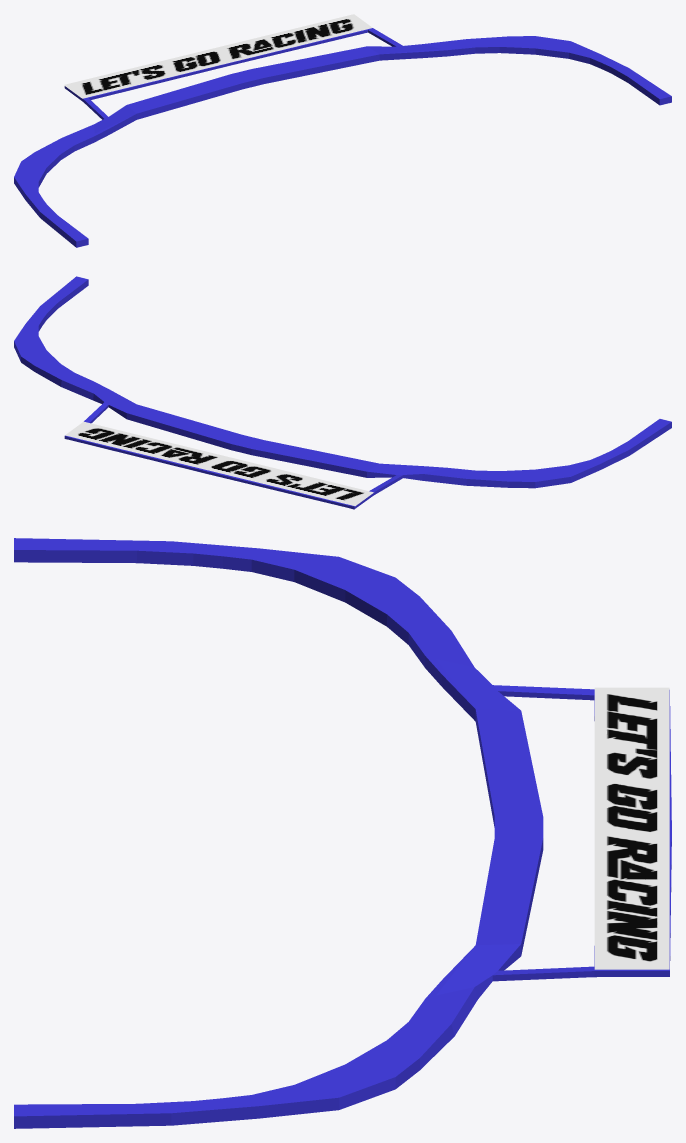
The model's file is checkpoint.fbx.
3 views of the same model, one above another, from view 1: azimuth 30°, elevation 25°; view 2: azimuth 150°, elevation 25°; view 3: azimuth 270°, elevation 25° (orthographic). The views are drawn at different scales.
Parts seen in each view (by area): view 1: checkpoint, Plane; view 2: checkpoint, Plane; view 3: checkpoint, Plane.
Part boxes in pixels (<box>): checkpoint: <box>14,28,671,247</box>; Plane: <box>64,14,372,98</box>; checkpoint: <box>14,276,671,509</box>; Plane: <box>65,421,373,506</box>; checkpoint: <box>14,538,671,1128</box>; Plane: <box>594,687,669,969</box>.
Bounding box in the file's own units: 294 × 2.95 × 141.
2 materials, 1 textured.
